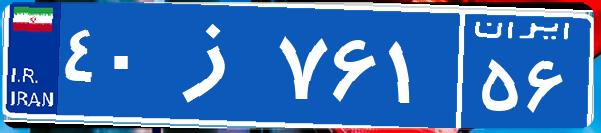0: (110, 28, 158, 105)
1: (385, 28, 445, 110)
4: (57, 26, 110, 107)
5: (475, 38, 525, 113)
6: (330, 28, 385, 110), (525, 38, 570, 115)
7: (273, 28, 330, 110)
ز: (158, 15, 273, 115)
